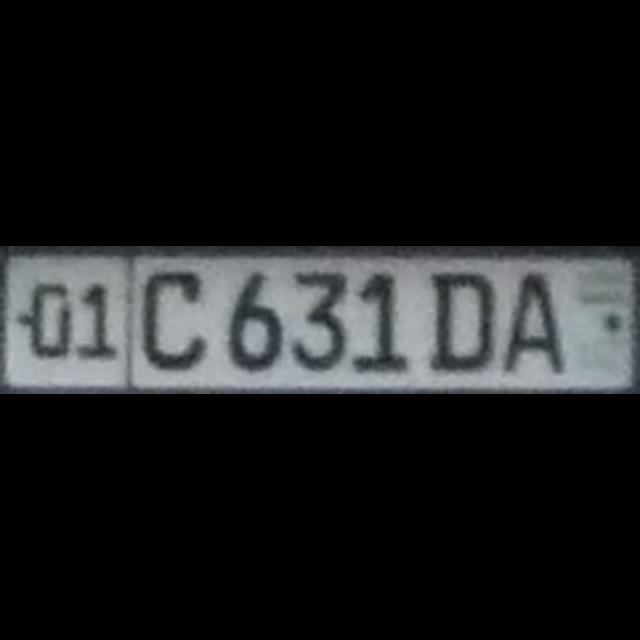0: (29, 278, 66, 354)
1: (354, 270, 406, 370), (75, 283, 117, 357)
3: (290, 270, 342, 368)
6: (226, 276, 278, 368)
A: (504, 268, 560, 368)
C: (140, 270, 202, 366)
D: (427, 268, 491, 368)
